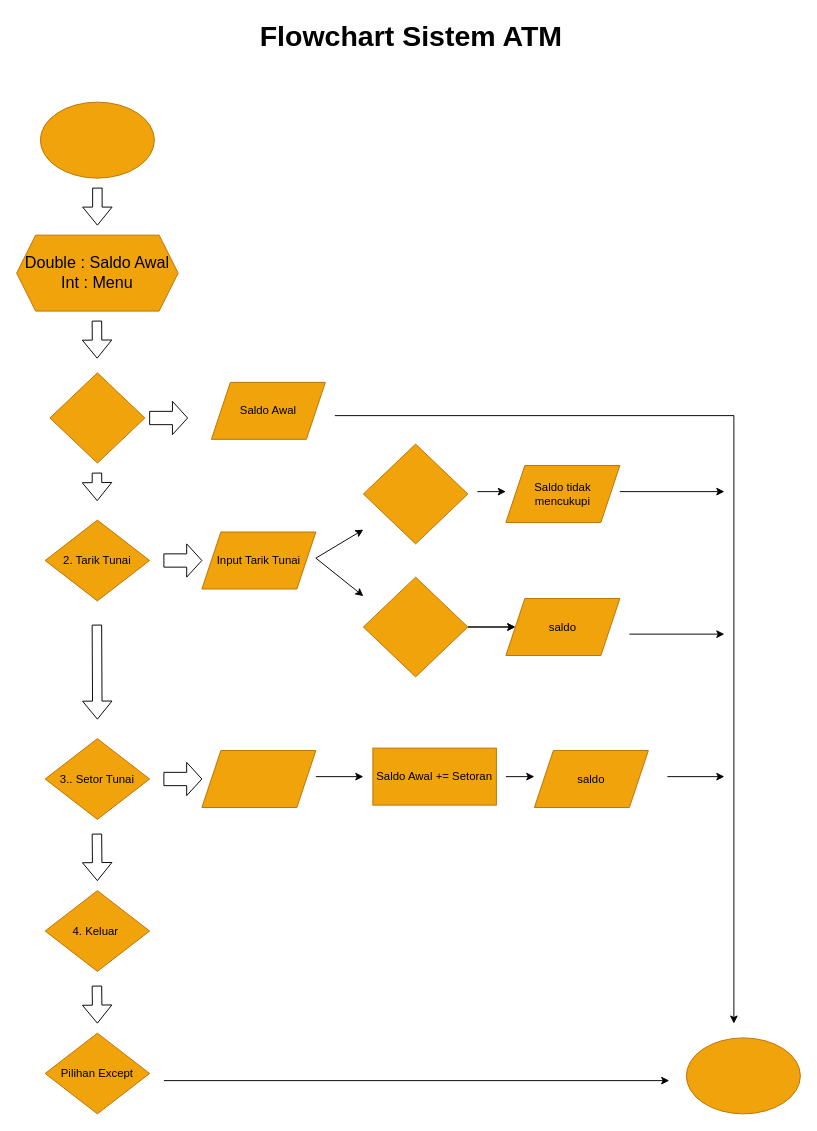
Some shapes in this 817 by 1131 pixel diagram are drawn without their labels. The centre of each missing label's shape, as x and y in pixels:
1. Cek Saldo: (x=97, y=417)
End: (x=742, y=1075)
Input Setor Tunai: (x=258, y=779)
Start: (x=96, y=139)
Tarikan > saldo: (x=415, y=493)
Tarikan-= saldo: (x=415, y=626)
